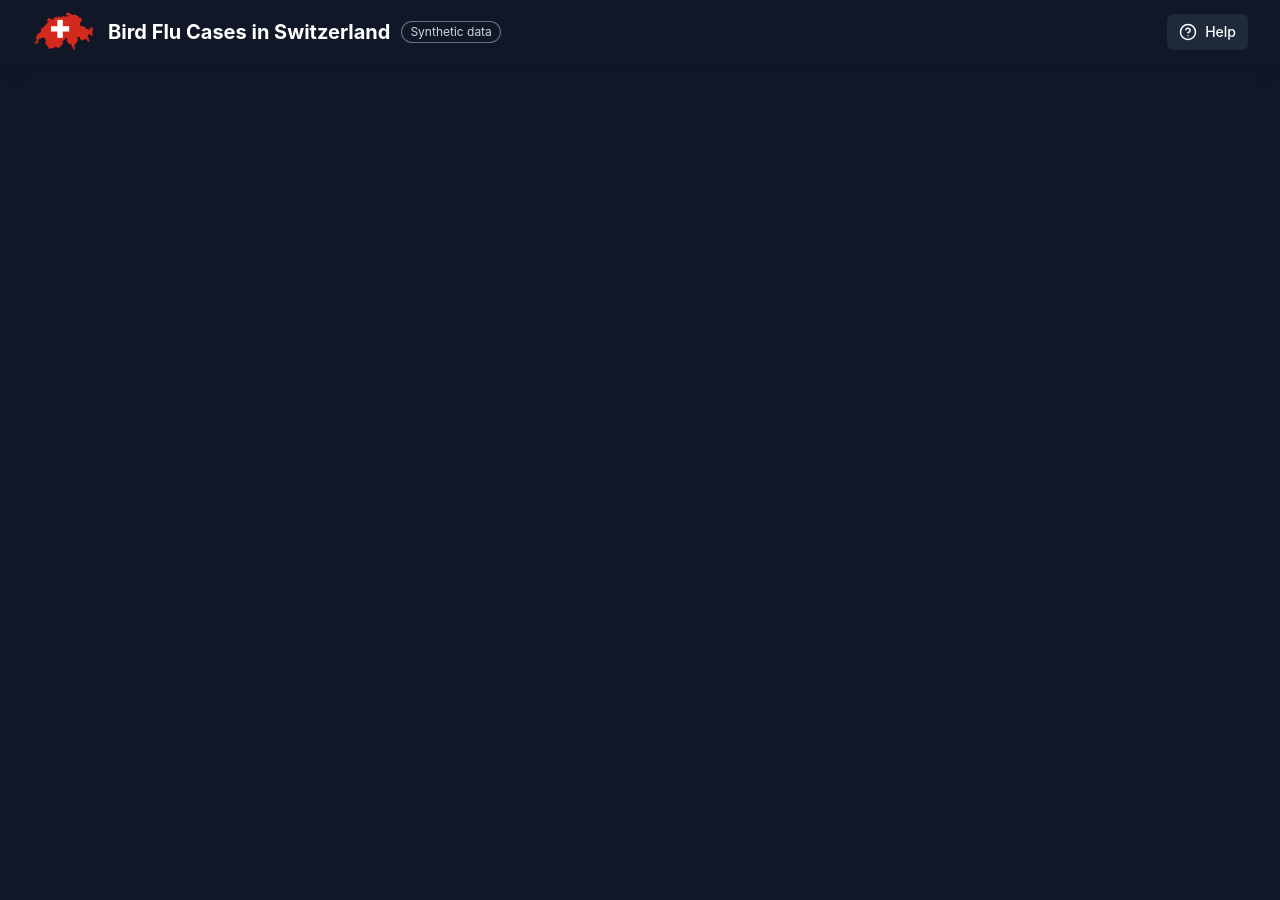
Test: shows the dashboard title and a help dialog that labels the data as synthetic
Later steps or results of the test are not shown.
Expected: the heading "Bird Flu Cases in Switzerland" is shown, [108,18,390,46]
Click the button "Help" at (1208, 32), box [1167,14,1248,50]
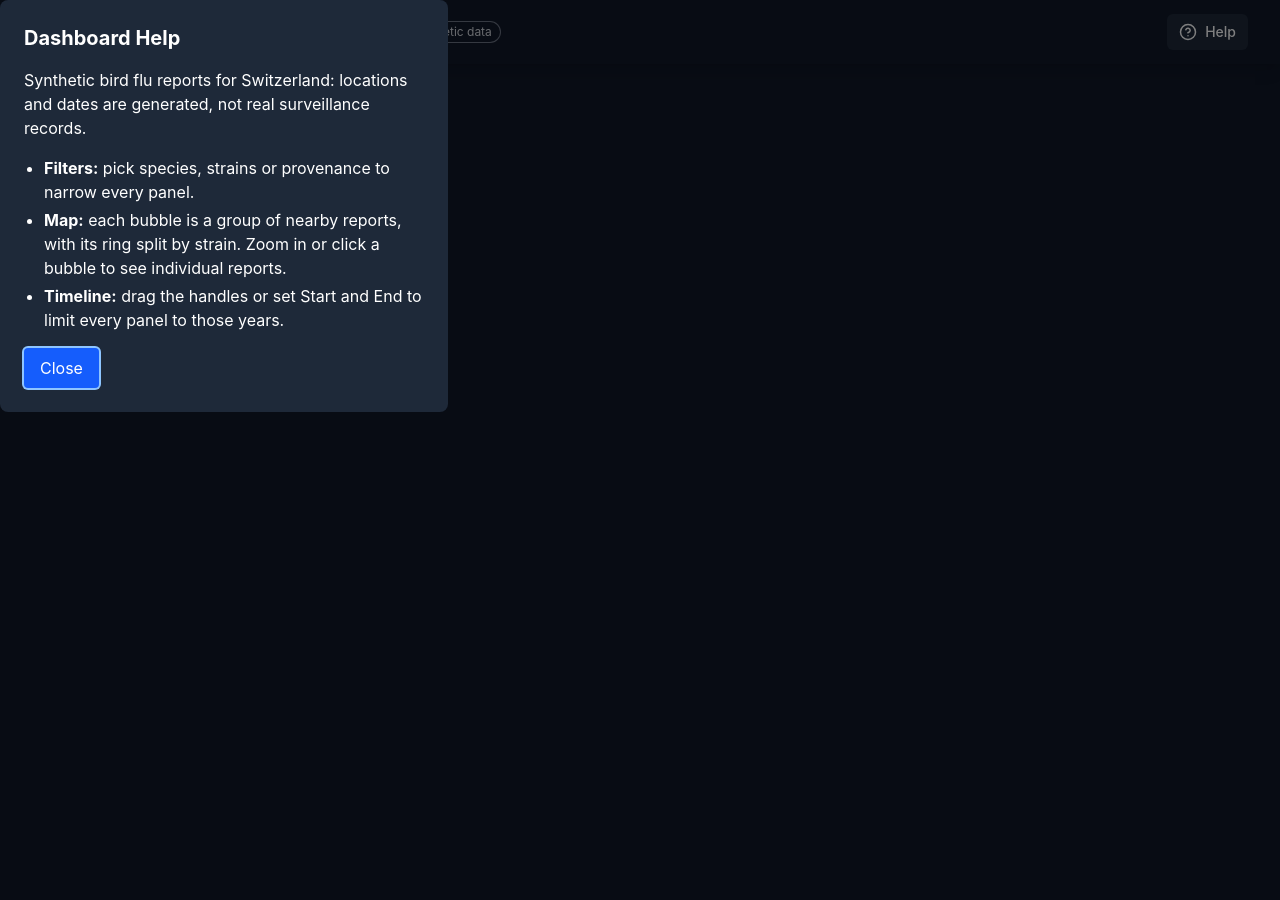
Now the dialog "Dashboard Help" shows "Synthetic bird flu reports", box [24,70,408,138]
